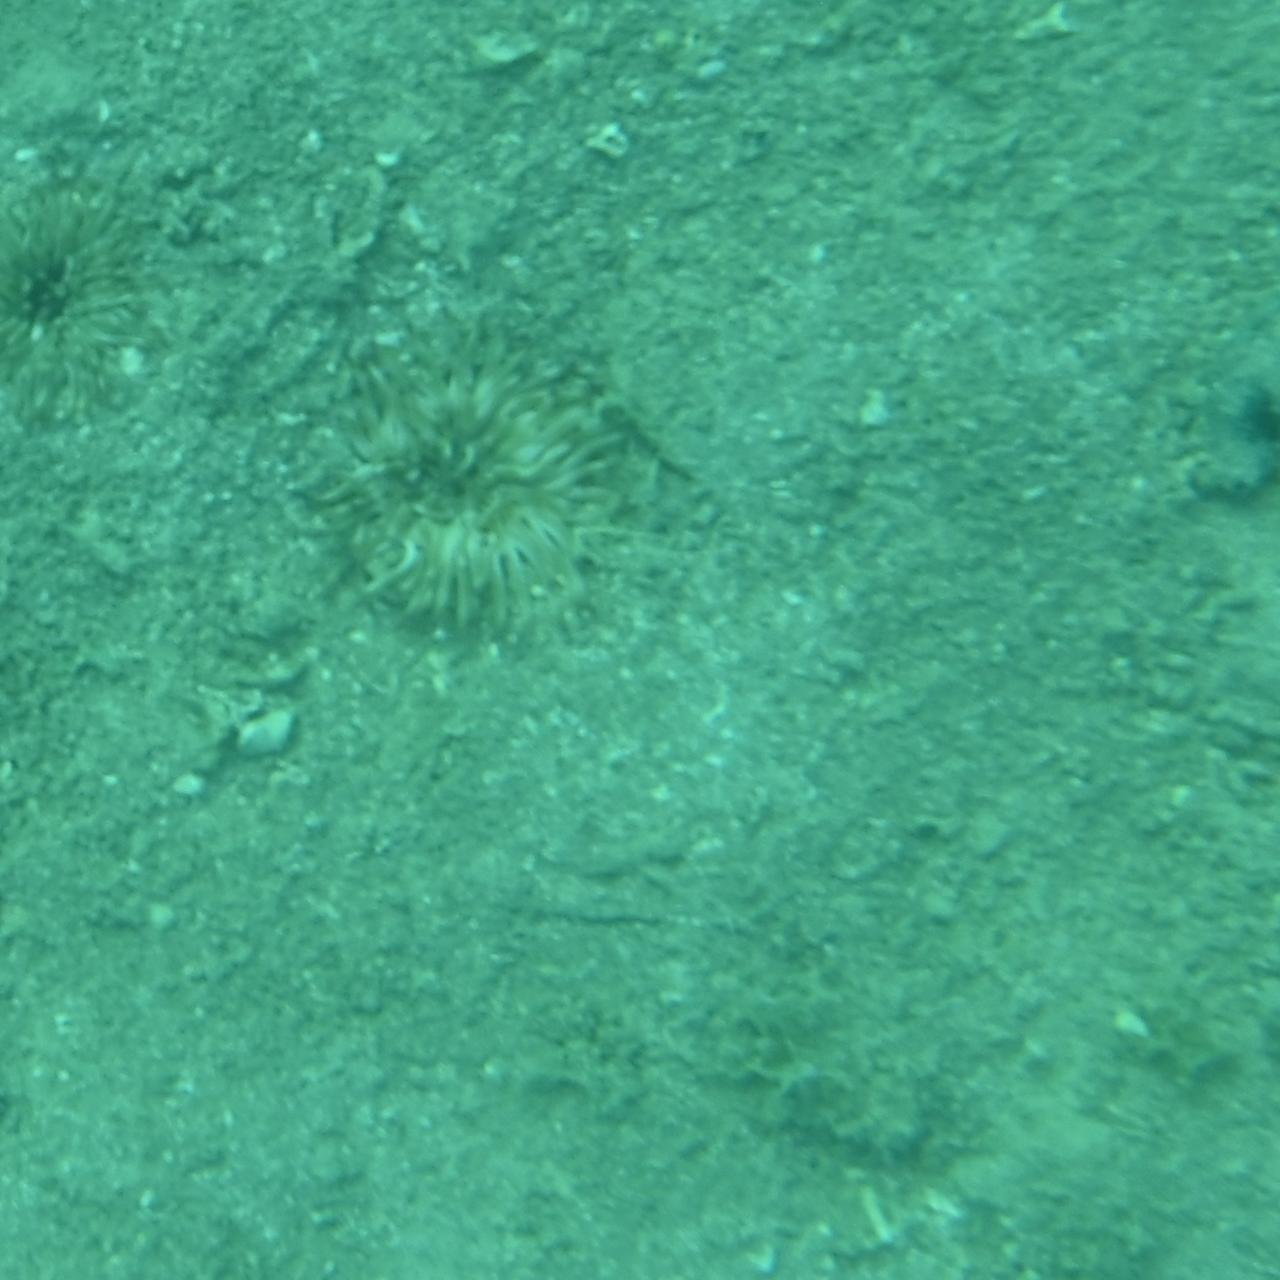Condylactis aurantiaca: (348, 316, 692, 665), (0, 188, 198, 442)
Holothuria tubulosa: (1006, 263, 1280, 505), (0, 792, 177, 1141)
